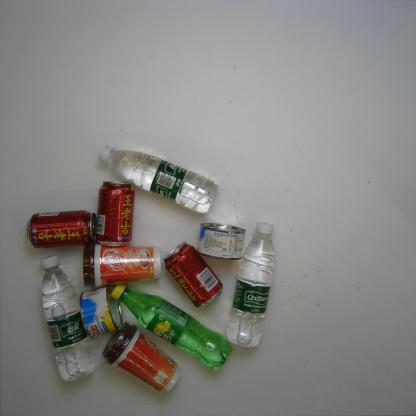Canned Food: (74, 289, 119, 341), (198, 219, 246, 262)
Drink: (110, 280, 231, 372), (92, 144, 223, 216), (219, 224, 294, 346), (32, 258, 92, 384), (166, 239, 231, 317), (24, 204, 98, 249), (96, 179, 140, 246)
Instant Drink: (98, 323, 191, 396), (81, 237, 166, 289)
